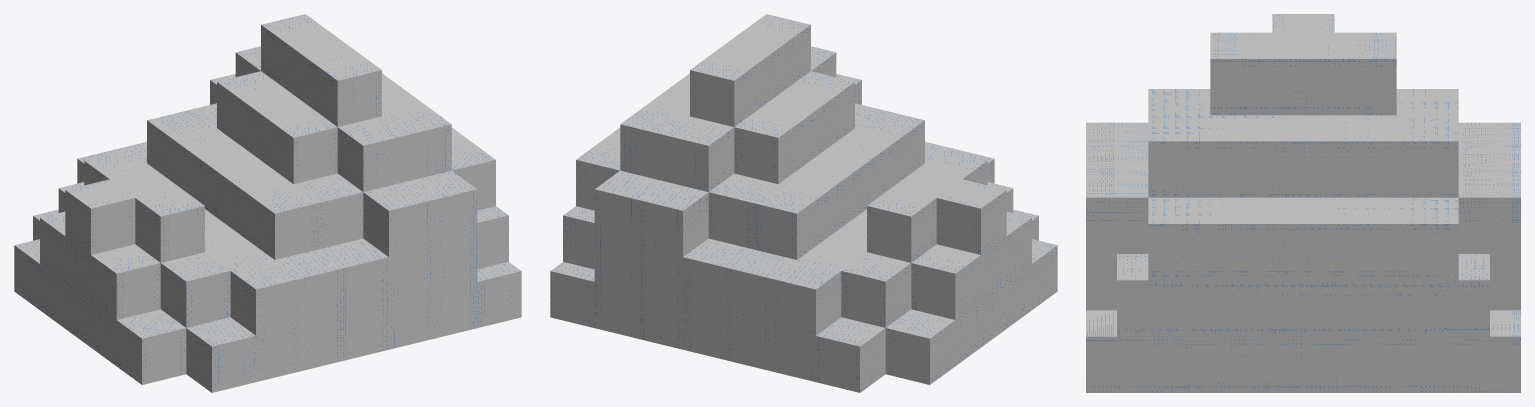
File: stone-01.fbx
The picture shows the model from 3 angles, left to right: view 1: azimuth 30°, elevation 25°; view 2: azimuth 150°, elevation 25°; view 3: azimuth 270°, elevation 25°; orthographic projection. The views are drawn at different scales.
Visible parts, largest first — view 1: generated; view 2: generated; view 3: generated.
Part boxes in pixels (x1=…): generated: x1=14, y1=14, x2=521, y2=392; generated: x1=550, y1=14, x2=1057, y2=392; generated: x1=1086, y1=14, x2=1520, y2=392.
Bounding box in the file's own units: 80 × 50 × 70.
1 material, 1 textured.
